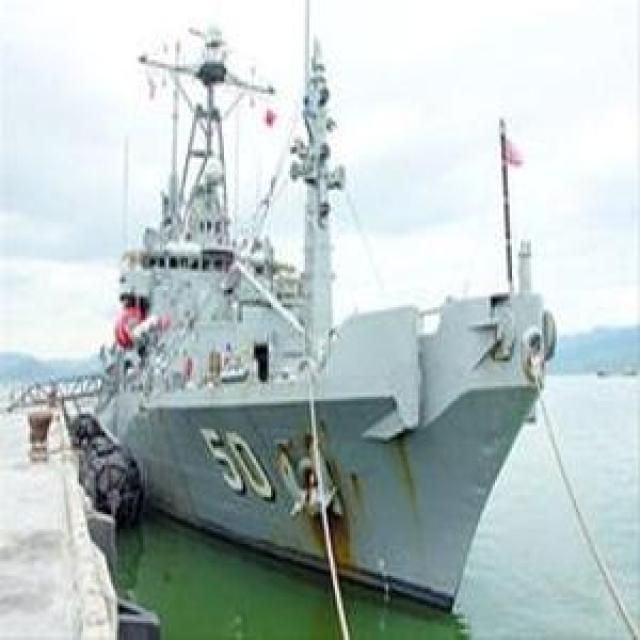navalvessels: (92, 26, 554, 603)
